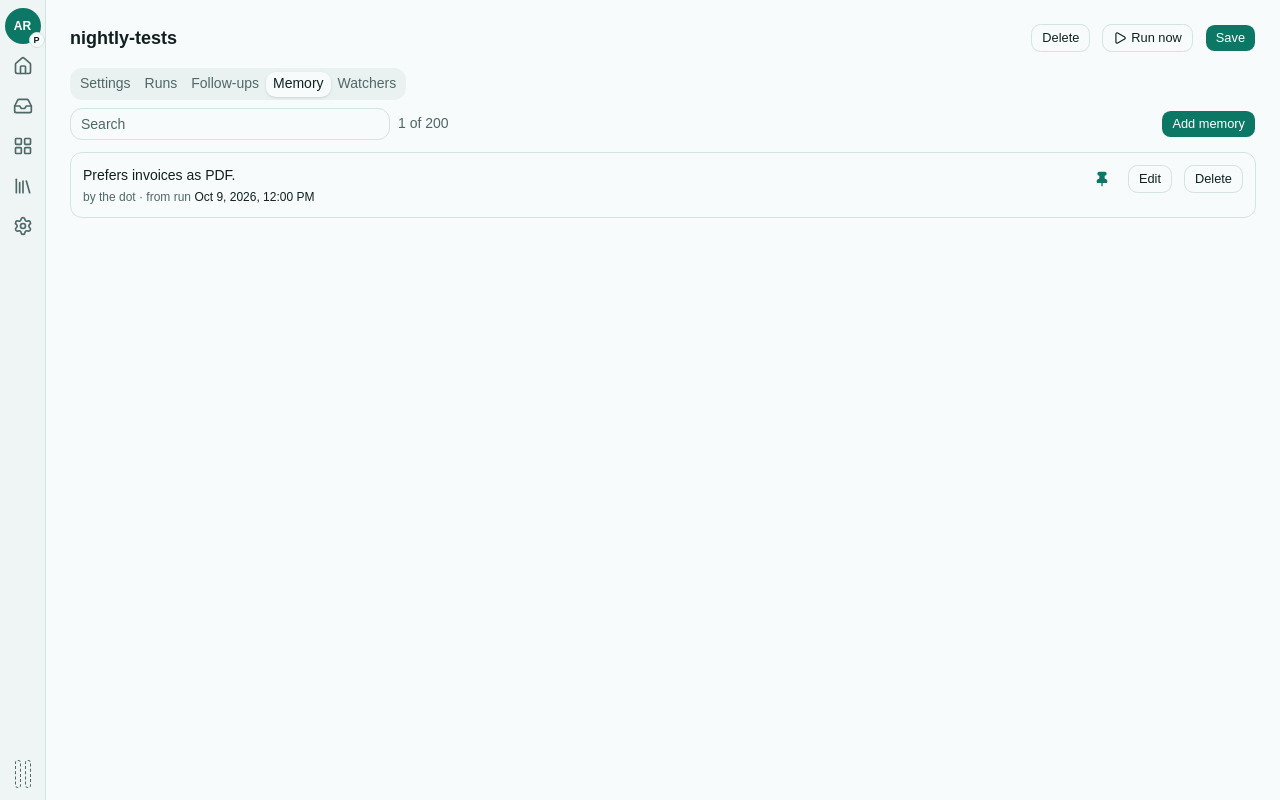
Test: a dot's Memory tab › shows why a pin could not change
Check: the tab "Memory" is shown, box [266,72,331,96]
Click the button named "Pinned": click(1102, 179) [1088,165,1116,193]
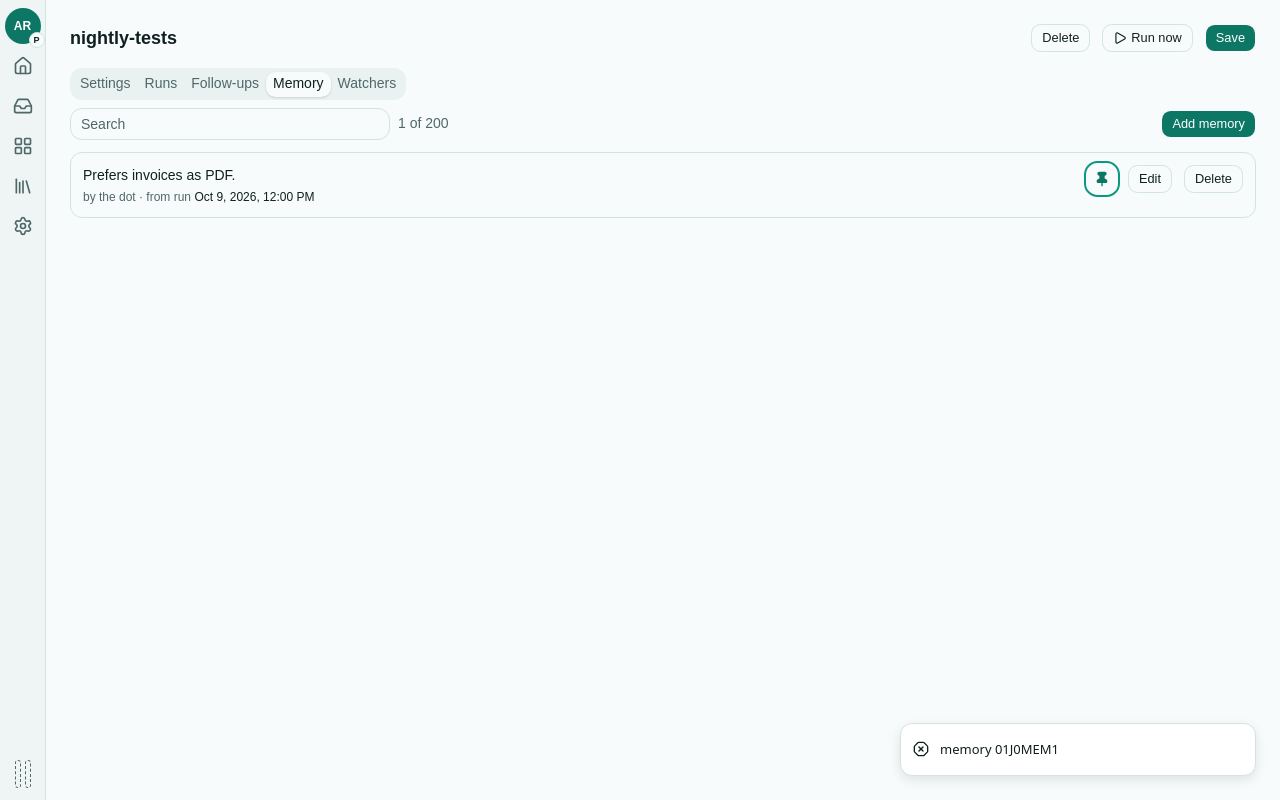
Check: the text "memory 01J0MEM1" is shown, box [940,740,1059,759]
